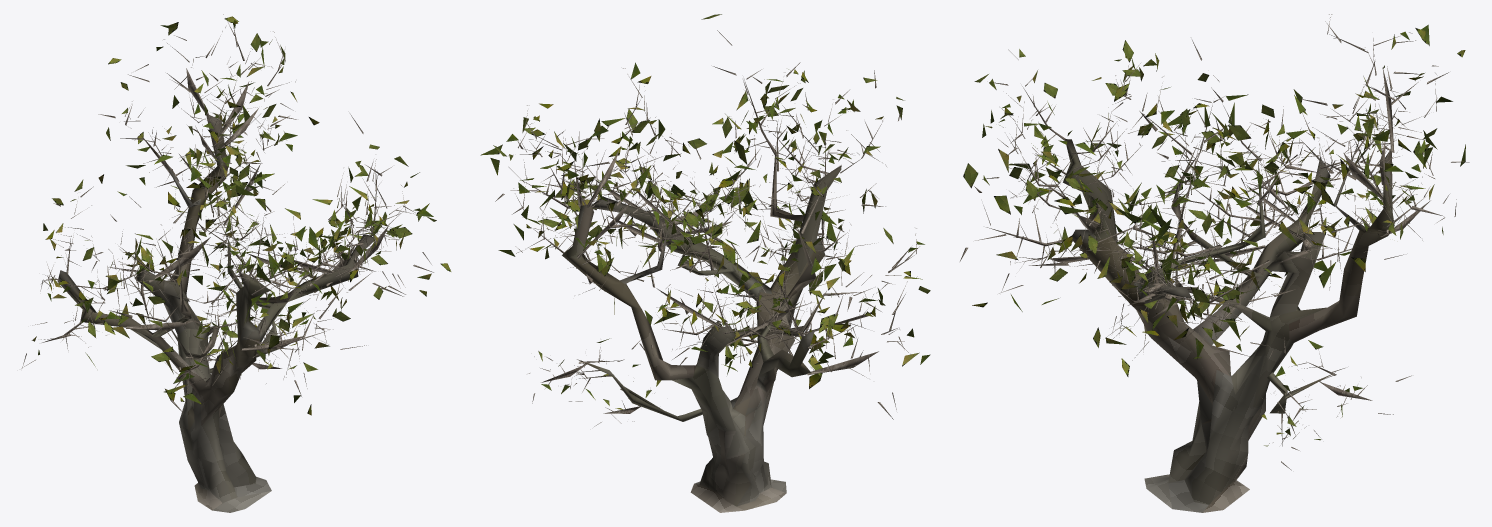
File: tree_isle_far.glb
The picture shows the model from 3 angles, left to right: view 1: azimuth 30°, elevation 25°; view 2: azimuth 150°, elevation 25°; view 3: azimuth 270°, elevation 25°; orthographic projection. The views are drawn at different scales.
Parts seen in each view (by area): view 1: tree_isle_far; view 2: tree_isle_far; view 3: tree_isle_far.
Boxes of the visible parts, x1,y1,x2,y2 form: tree_isle_far: (21, 14, 451, 512); tree_isle_far: (480, 14, 930, 512); tree_isle_far: (960, 14, 1469, 512).
Size of the model in its own units: 4.55 by 4.84 by 4.46.
3 materials, 3 textured.
